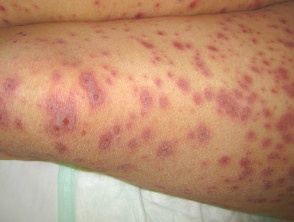SJS-TEN: (0, 9, 294, 213)
